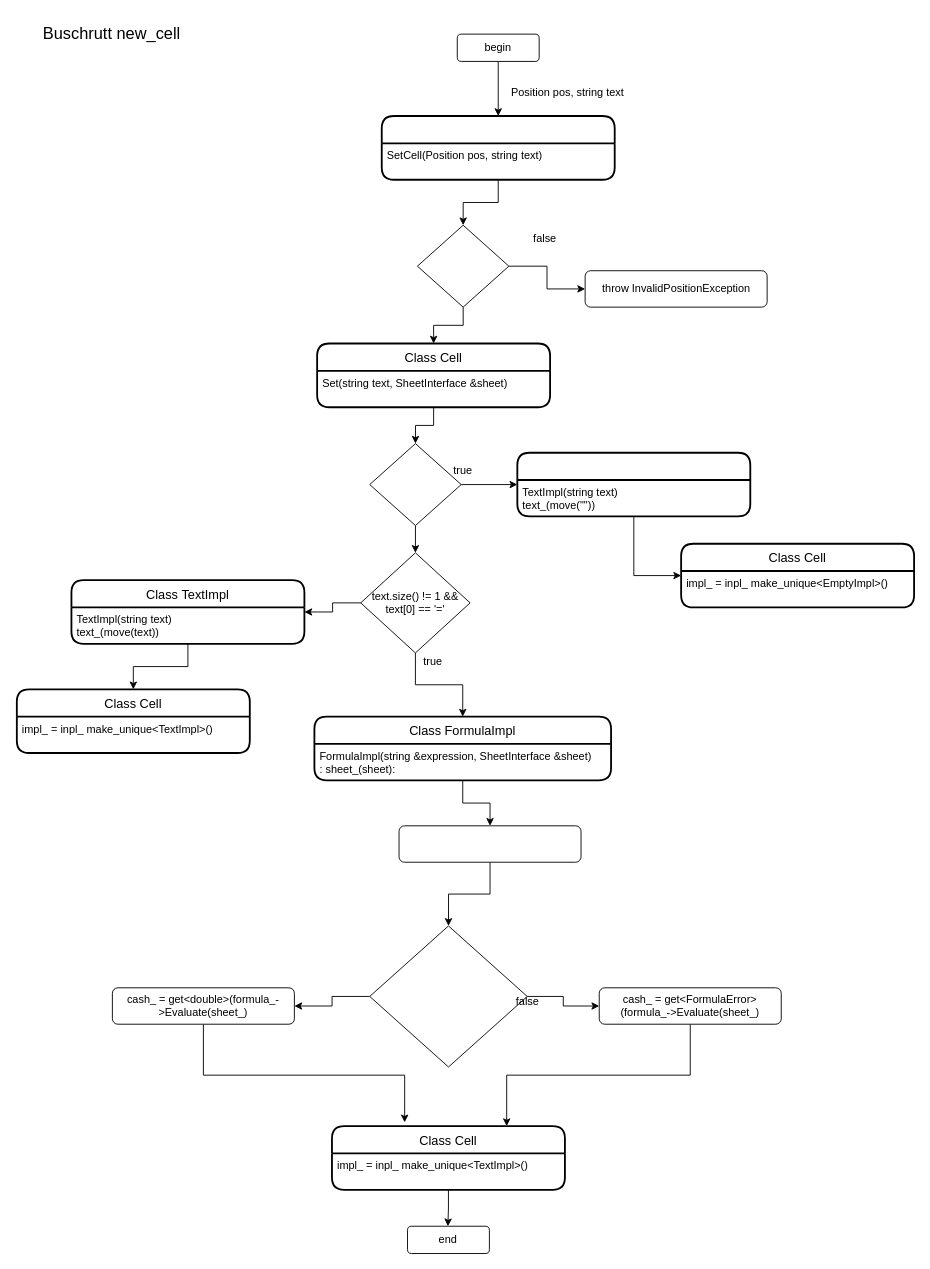
The diagram is 930 pixels wide and 1269 high, and some of its shapes have lost their labels. The shapes that lost their labels are listed below. From the top down, each one's box as (x1, y1, x2, y2) in pixels, then its label:
(380, 115, 615, 180): Class Sheet
(417, 224, 509, 307): pos.IsValid()?
(369, 443, 461, 526): text.empty() ?
(516, 451, 751, 517): Class EmptyImpl
(398, 825, 581, 862): formula_ = ParseFormula(expression)
(369, 925, 527, 1067): holds_alternative<double>(formula_->Evaluate(sheet_))
